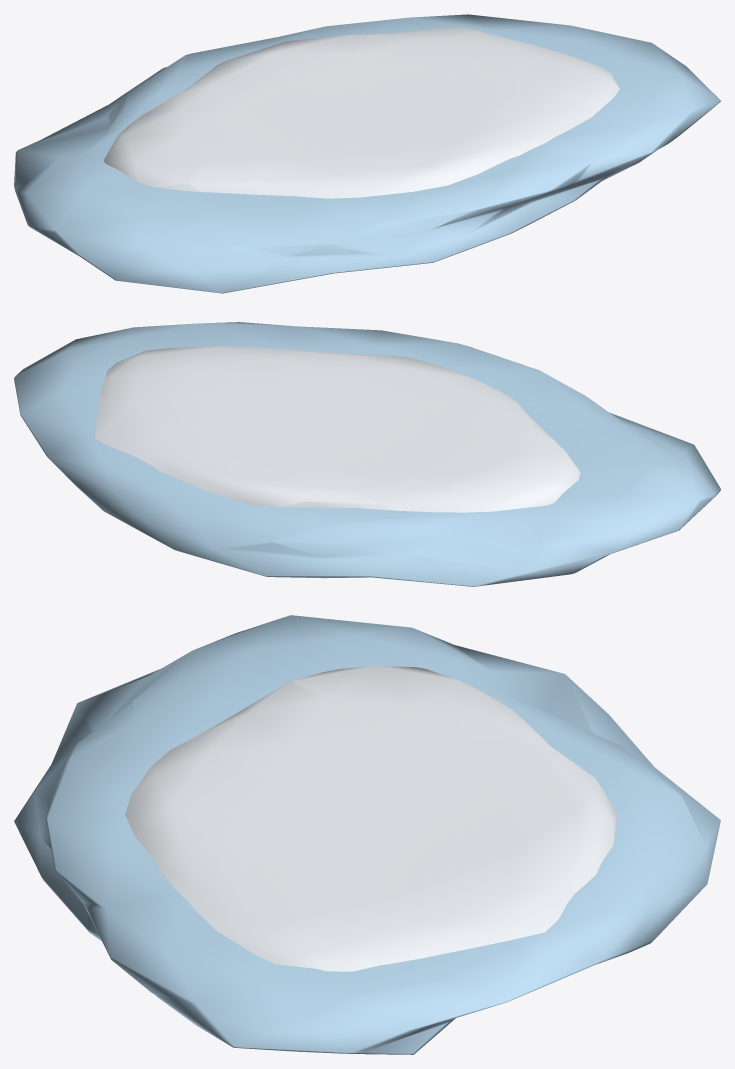
Rendered from ice-floe.glb.
3 views of the same model, one above another, from view 1: azimuth 30°, elevation 25°; view 2: azimuth 150°, elevation 25°; view 3: azimuth 270°, elevation 25° (orthographic). The views are drawn at different scales.
Parts seen in each view (by area): view 1: ice-floe; view 2: ice-floe; view 3: ice-floe.
Part boxes in pixels (bbox=[...]): ice-floe: bbox=[14, 14, 720, 293]; ice-floe: bbox=[14, 322, 720, 586]; ice-floe: bbox=[14, 615, 720, 1054].
Bounding box in the file's own units: 8.71 × 0.9242 × 6.14.
